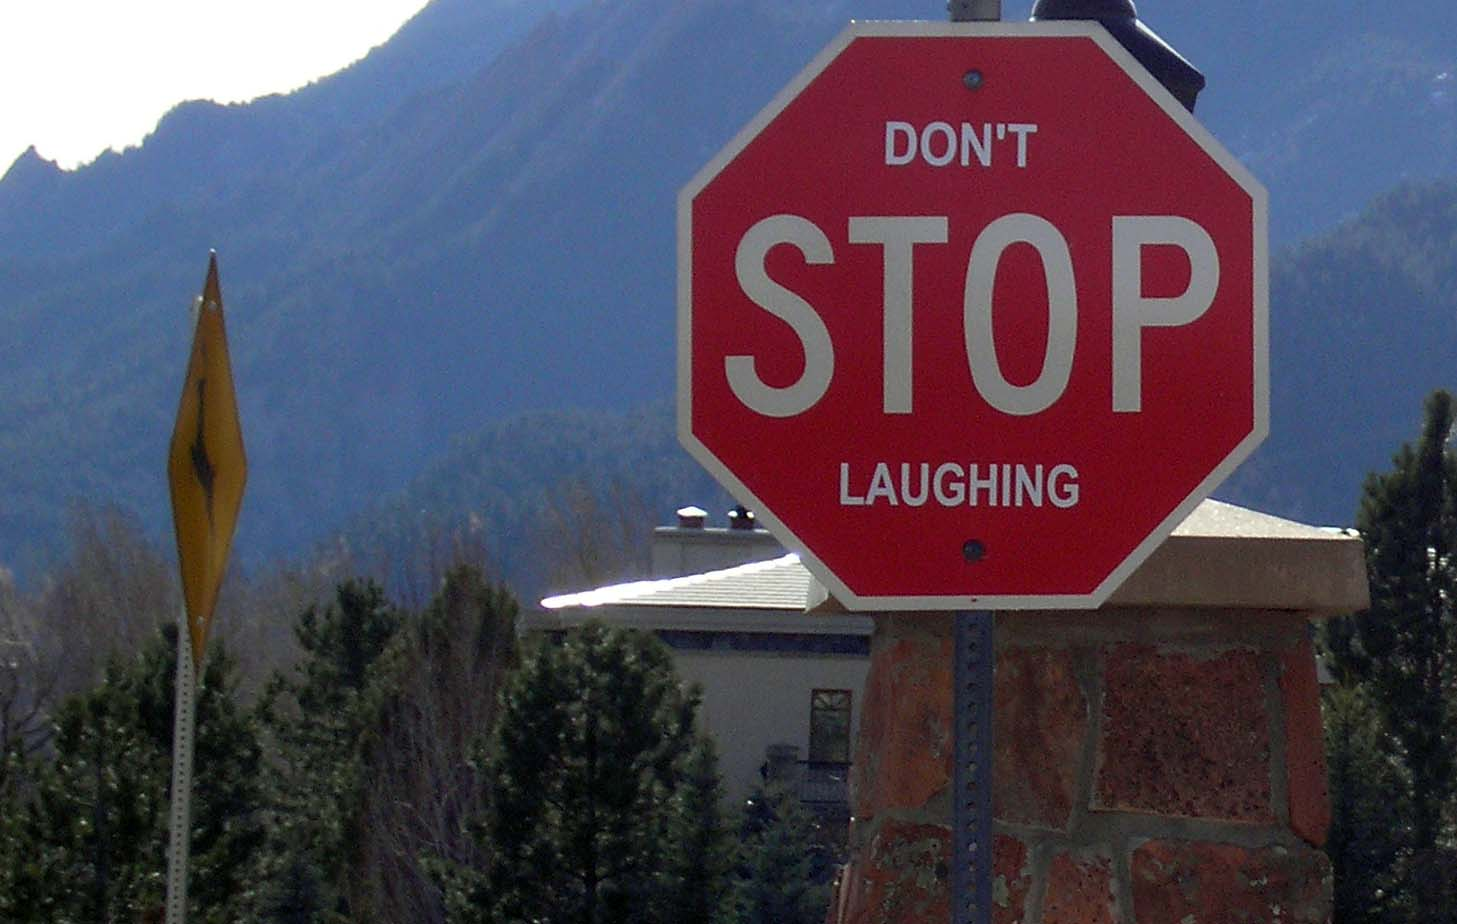stop: (679, 18, 1268, 611)
